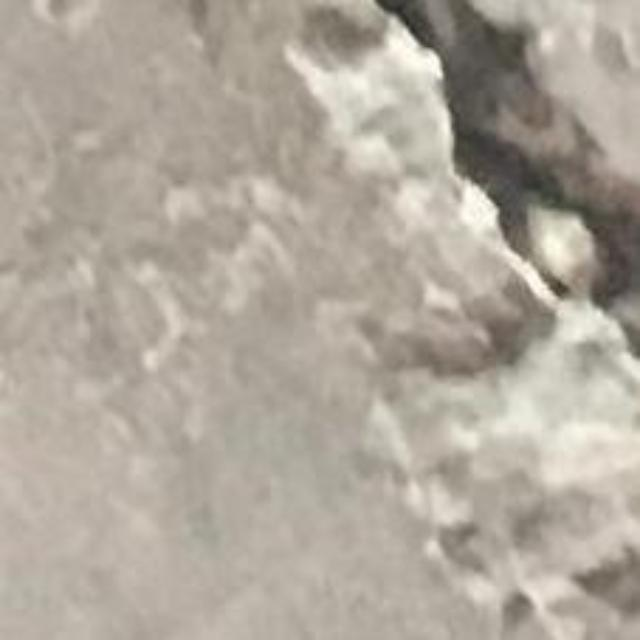crack: (375, 0, 639, 363)
peeling plaster: (370, 302, 639, 639)
